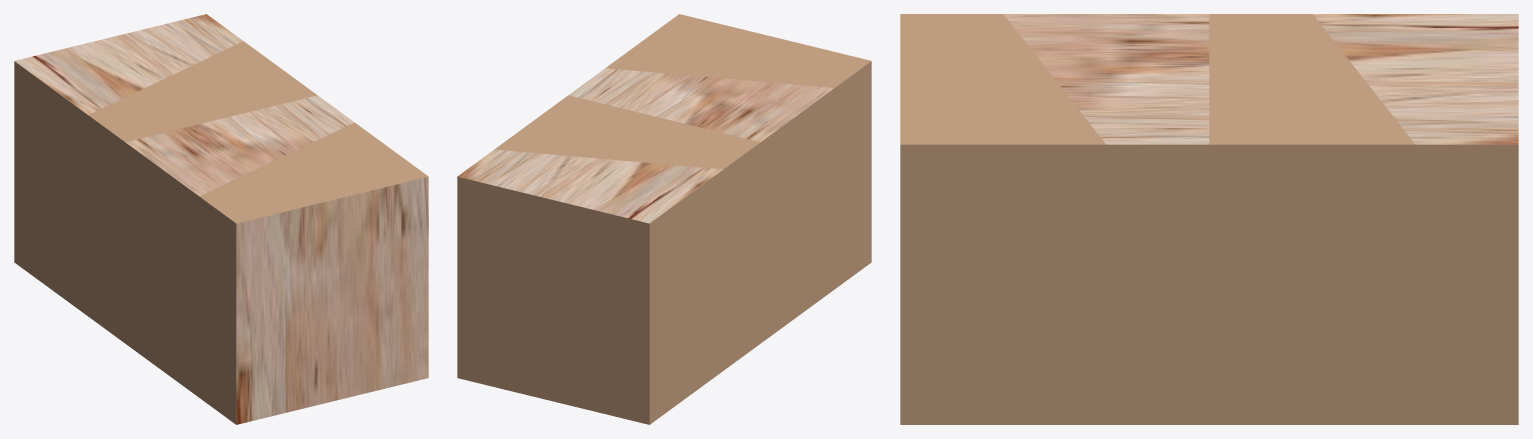
3 views of the same model, side by side, from view 1: azimuth 30°, elevation 25°; view 2: azimuth 150°, elevation 25°; view 3: azimuth 270°, elevation 25° (orthographic). The views are drawn at different scales.
Parts seen in each view (by area): view 1: base_link; view 2: base_link; view 3: base_link.
Boxes of the visible parts, left/top/right/bottom form: base_link: left=14, top=14, right=428, bottom=424; base_link: left=457, top=14, right=871, bottom=424; base_link: left=900, top=14, right=1518, bottom=424.
Size of the model in its own units: 0.6 by 1.2 by 0.6.
1 material, 1 textured.
